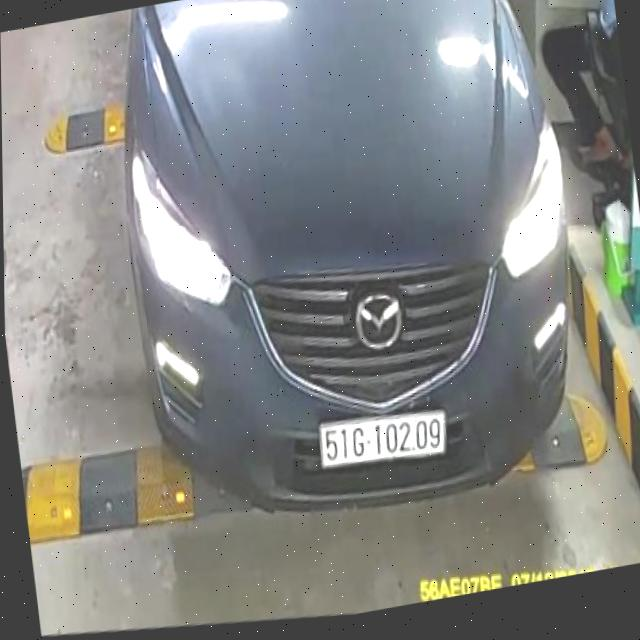car: (92, 0, 612, 565)
plate: (310, 396, 454, 484)
